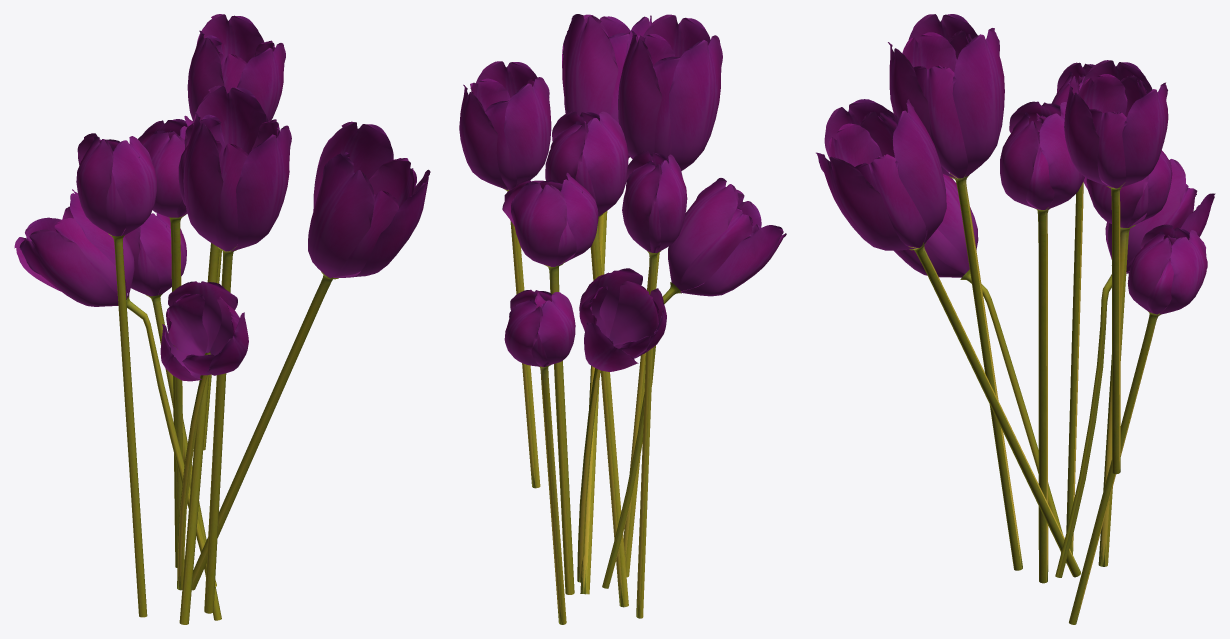
The model's file is RamoTulipanesMorados.fbx.
3 renders of one model, left to right at view 1: azimuth 30°, elevation 25°; view 2: azimuth 150°, elevation 25°; view 3: azimuth 270°, elevation 25°, orthographic. The views are drawn at different scales.
Visible parts, largest first — view 1: TulipanesMorados; view 2: TulipanesMorados; view 3: TulipanesMorados.
Part boxes in pixels (x1,y1,x2,y2): TulipanesMorados: (14, 14, 430, 624); TulipanesMorados: (459, 14, 786, 624); TulipanesMorados: (816, 14, 1215, 624).
Size of the model in its own units: 0.1391 by 0.1921 by 0.3051.
Materials: 3 (3 with a texture image).
